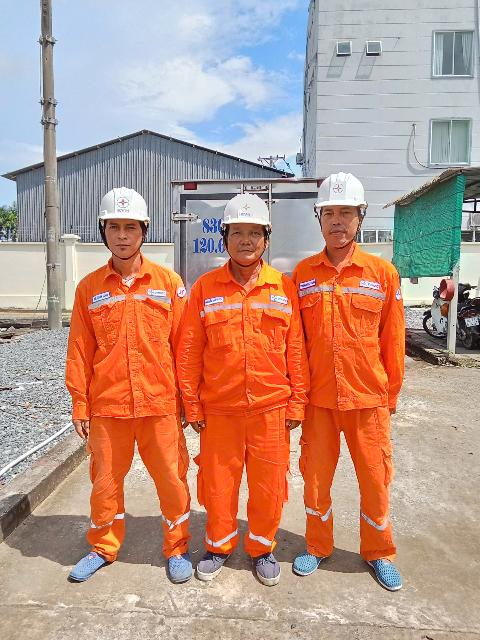helmet: (87, 178, 164, 232), (307, 169, 374, 218), (208, 187, 275, 229)
shoes: (60, 536, 119, 593), (364, 548, 408, 602), (246, 539, 283, 593), (287, 539, 329, 578), (197, 543, 236, 581), (163, 548, 197, 589)
